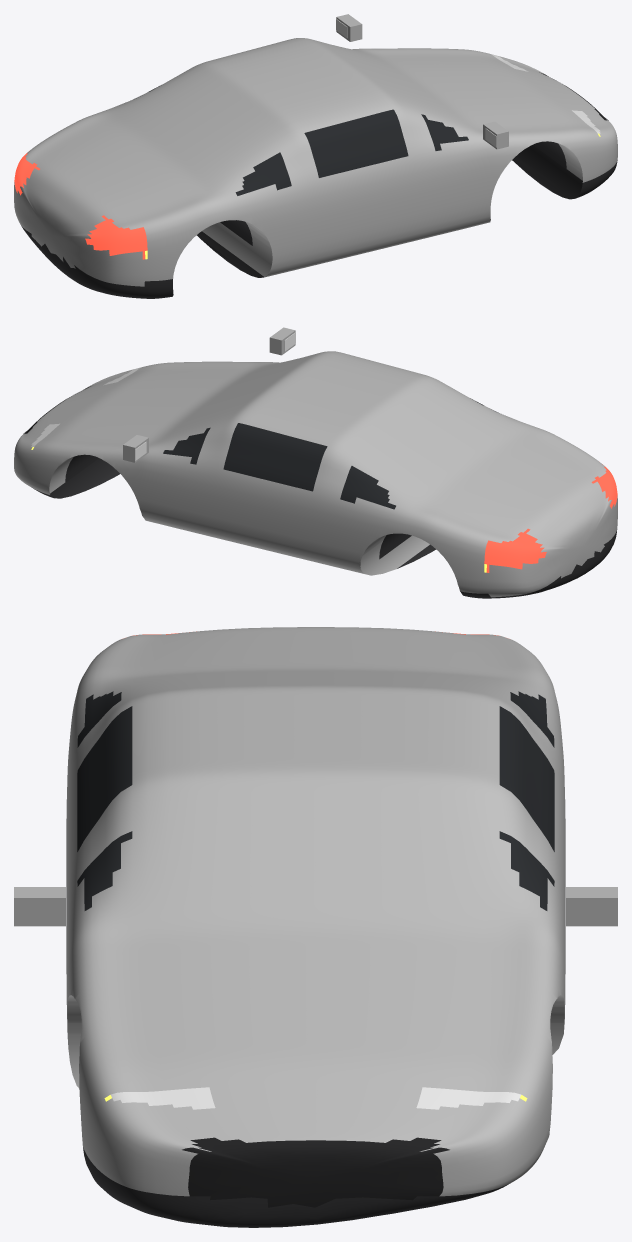
The model's file is SM_VB_Car_Sport.fbx.
The picture shows the model from 3 angles, top to bottom: view 1: azimuth 30°, elevation 25°; view 2: azimuth 150°, elevation 25°; view 3: azimuth 270°, elevation 25°; orthographic projection. The views are drawn at different scales.
Visible parts, largest first — view 1: SM_VB_Car_Sport; view 2: SM_VB_Car_Sport; view 3: SM_VB_Car_Sport.
Part boxes in pixels (x1=…): SM_VB_Car_Sport: x1=14, y1=14, x2=617, y2=298; SM_VB_Car_Sport: x1=14, y1=327, x2=617, y2=598; SM_VB_Car_Sport: x1=14, y1=627, x2=617, y2=1227.
Size of the model in its own units: 4.44 by 1.11 by 2.32.
